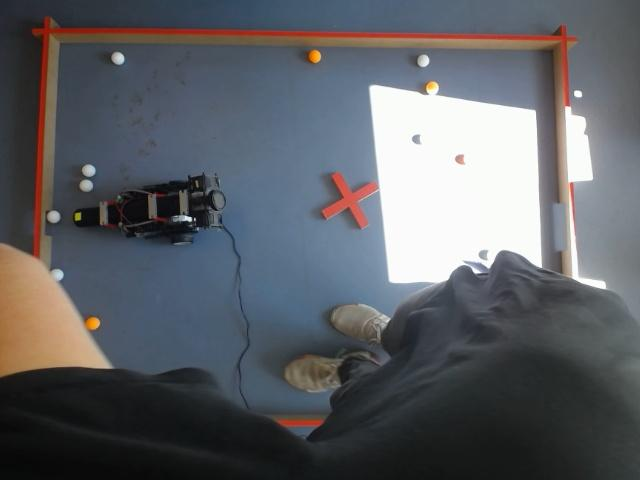orange: (84, 315, 100, 331), (308, 49, 321, 64)
robot: (73, 172, 227, 243)
robot-front: (73, 207, 96, 227)
white: (81, 163, 96, 178), (111, 51, 125, 65), (46, 209, 60, 223), (416, 55, 431, 68), (51, 268, 64, 281), (80, 180, 94, 192)
